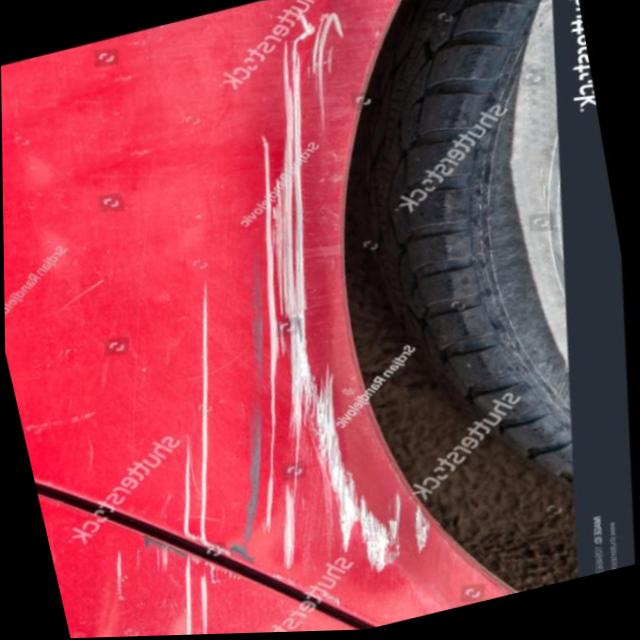Scratch: (50, 0, 547, 639)
